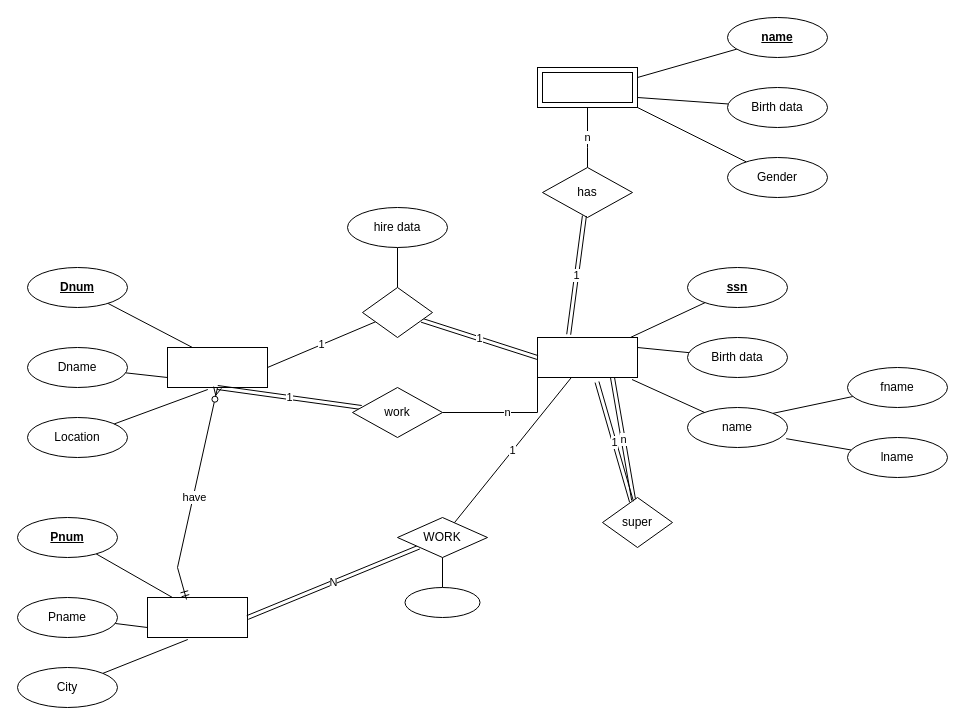
Image size: 965x725. Some labels were removed from this diagram. Here are the shapes that lost their labels. From the top down, the centre of each, then its label:
At point (587, 87): "Dependent".
At point (397, 312): "manage".
At point (217, 367): "Department".
At point (587, 357): "Employee".
At point (197, 617): "Project".
At point (442, 602): "work_hr".
